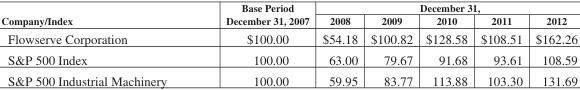table: (0, 1, 576, 87)
table column: (0, 1, 195, 87), (195, 1, 315, 87), (363, 1, 418, 87), (418, 1, 473, 87), (473, 1, 528, 87), (315, 1, 363, 87), (528, 1, 576, 87)
table column header: (0, 1, 576, 28)
table row: (0, 28, 576, 49), (0, 49, 576, 69), (0, 69, 576, 87), (0, 13, 576, 28), (0, 1, 576, 13)
table spanning cell: (0, 1, 195, 28), (195, 1, 315, 28), (315, 1, 576, 13)
